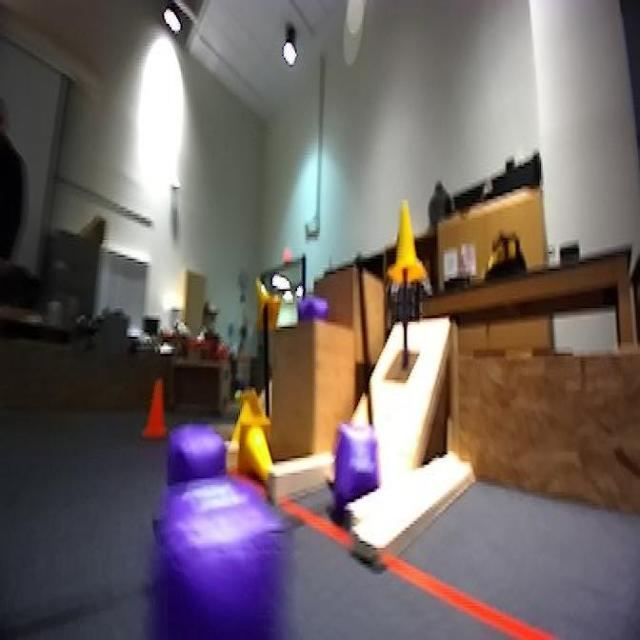frc_cone: (388, 197, 423, 286), (237, 417, 274, 478), (250, 276, 280, 328), (238, 393, 265, 422)
frc_cube: (164, 510, 319, 640), (164, 420, 226, 531), (335, 412, 390, 500), (296, 294, 334, 322)
